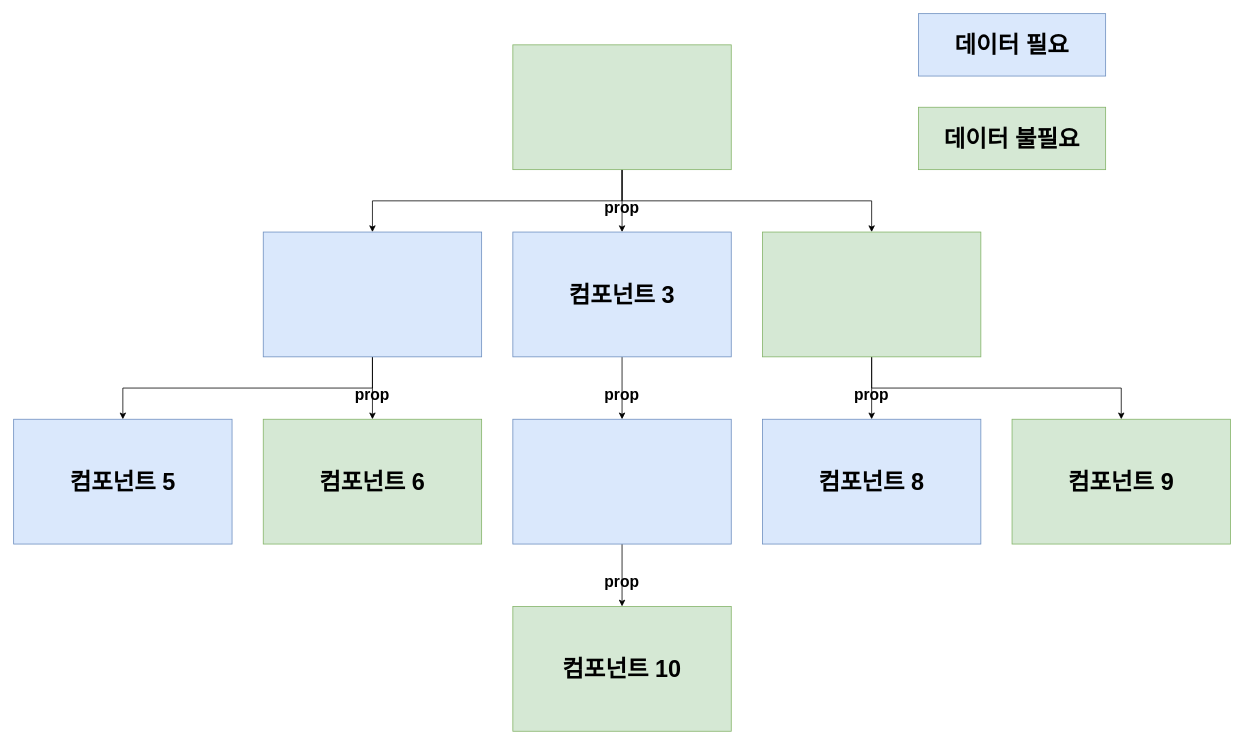
The diagram is 1244 pixels wide and 745 high, and some of its shapes have lost their labels. The shapes that lost their labels are listed below. From the top down, each one's box as (x1, y1, x2, y2) in pixels, then its label:
(512, 44, 731, 170): 컴포넌트 1
(262, 231, 482, 357): 컴포넌트 2
(762, 231, 981, 357): 컴포넌트 4
(512, 418, 731, 544): 컴포넌트 7
